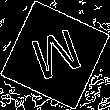M_S: (24, 23, 86, 87)
